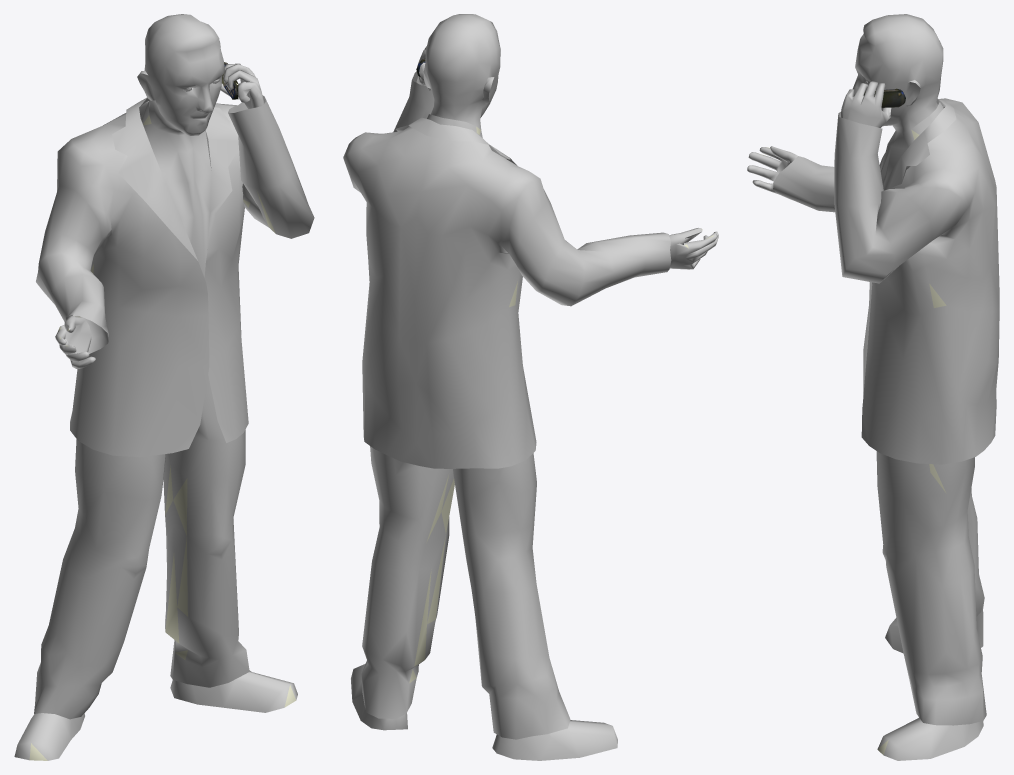
Rendered from man1.dae.
The picture shows the model from 3 angles, left to right: view 1: azimuth 30°, elevation 25°; view 2: azimuth 150°, elevation 25°; view 3: azimuth 270°, elevation 25°; orthographic projection. The views are drawn at different scales.
Parts seen in each view (by area): view 1: bman0001_st_layer1; view 2: bman0001_st_layer1; view 3: bman0001_st_layer1.
Boxes of the visible parts, x1,y1,x2,y2 form: bman0001_st_layer1: (14, 14, 314, 760); bman0001_st_layer1: (343, 14, 718, 760); bman0001_st_layer1: (747, 14, 999, 760).
Bounding box in the file's own units: 20.22 × 14.73 × 44.75.
